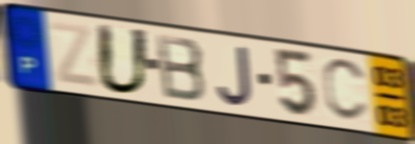5: (272, 45, 320, 121)
B: (154, 32, 209, 105)
C: (321, 57, 370, 125)
J: (214, 43, 254, 108)
U: (94, 21, 152, 98)
Z: (46, 19, 102, 92)
